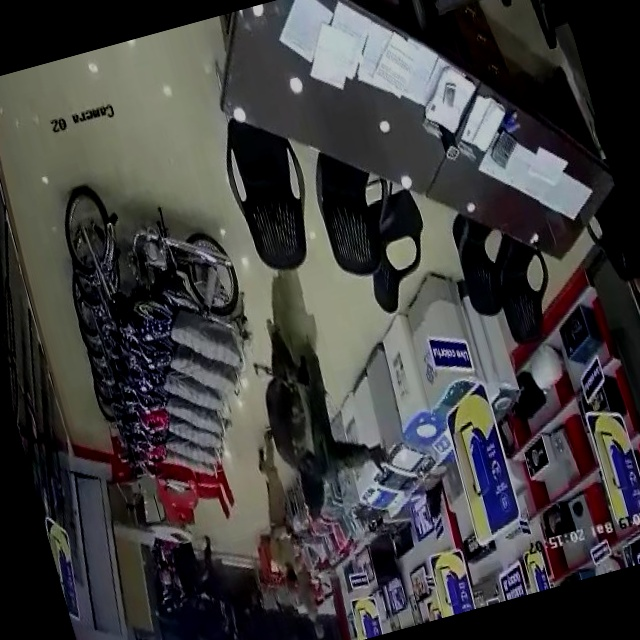gun: (250, 339, 315, 405)
